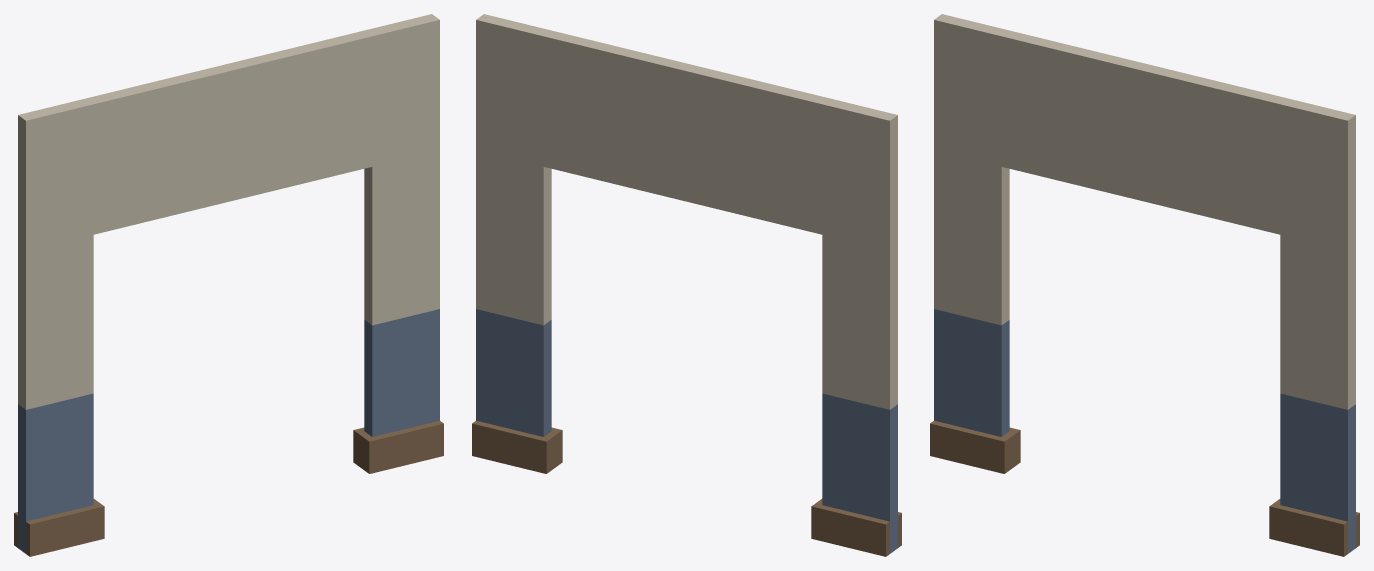
The model's file is Mesh_WallBaseboard2Colors_F5.fbx.
The picture shows the model from 3 angles, left to right: view 1: azimuth 30°, elevation 25°; view 2: azimuth 150°, elevation 25°; view 3: azimuth 330°, elevation 25°; orthographic projection.
Visible parts, largest first — view 1: Mesh_WallBaseboard2Colors_F5; view 2: Mesh_WallBaseboard2Colors_F5; view 3: Mesh_WallBaseboard2Colors_F5.
Boxes of the visible parts, x1,y1,x2,y2 form: Mesh_WallBaseboard2Colors_F5: [14, 14, 443, 556]; Mesh_WallBaseboard2Colors_F5: [472, 14, 901, 556]; Mesh_WallBaseboard2Colors_F5: [930, 14, 1359, 556].
Bounding box in the file's own units: 3 × 3 × 0.2.
